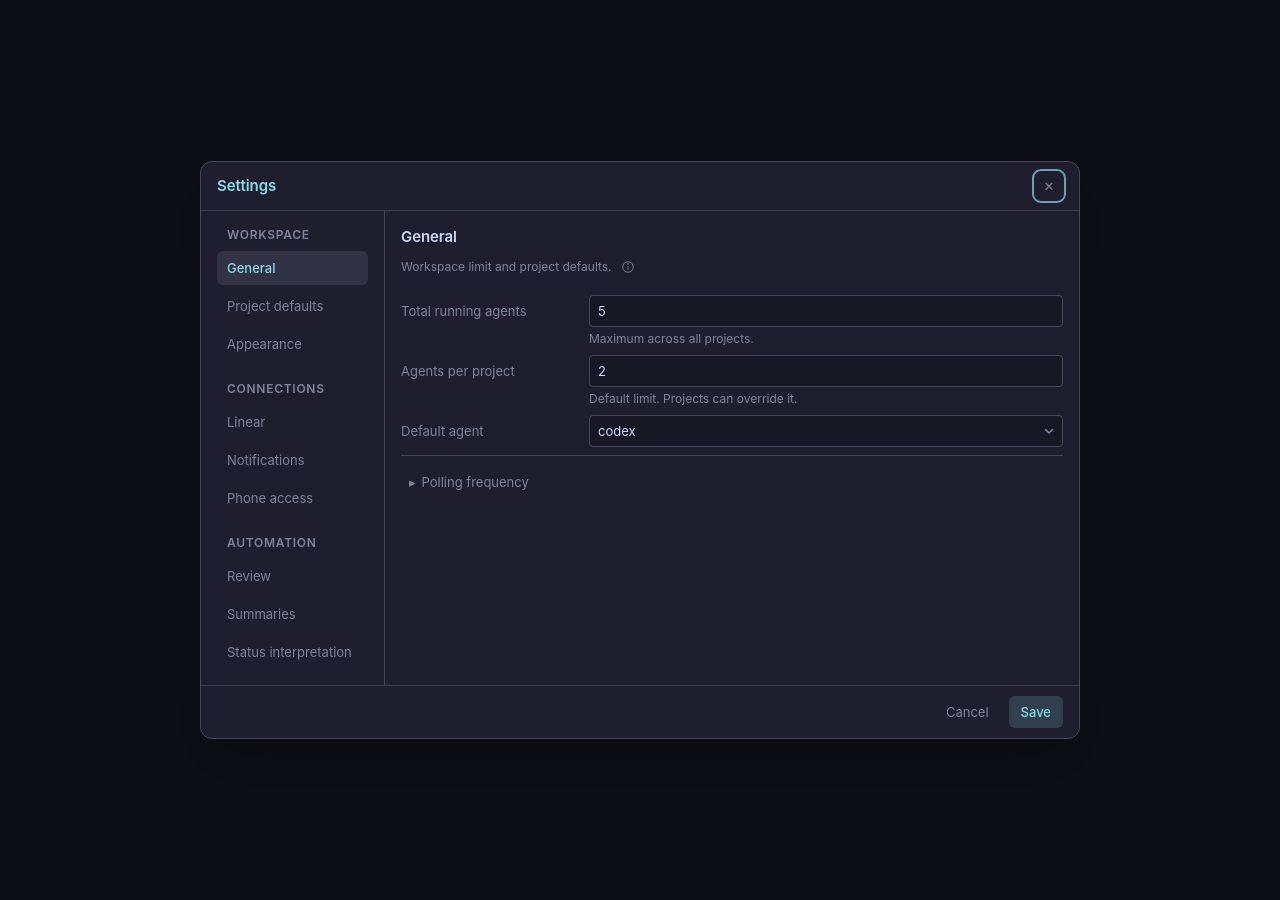
SettingsForm › falls back to manual UUID entry when the workspace labels can't be loaded
What coordinates should you click on to do the following:
click the tab "Project defaults"
I would click on:
 (292, 306)
Its box is [217,289,368,323].
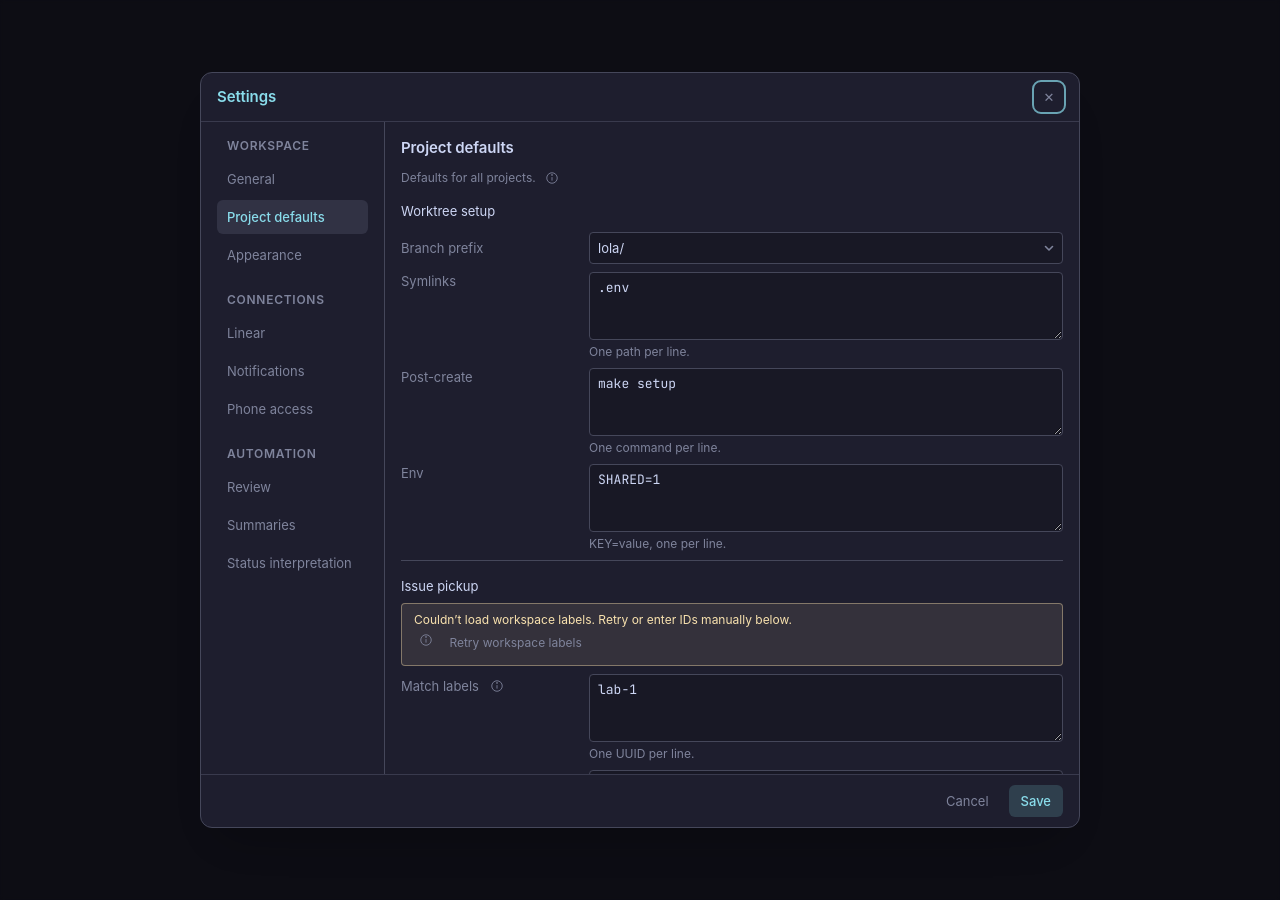
Check: the text "Couldn’t load workspace labels" is shown, box [414,612,792,627]
Check: the text box labelled "Match labels" holds "lab-1", box [589,674,1063,742]
